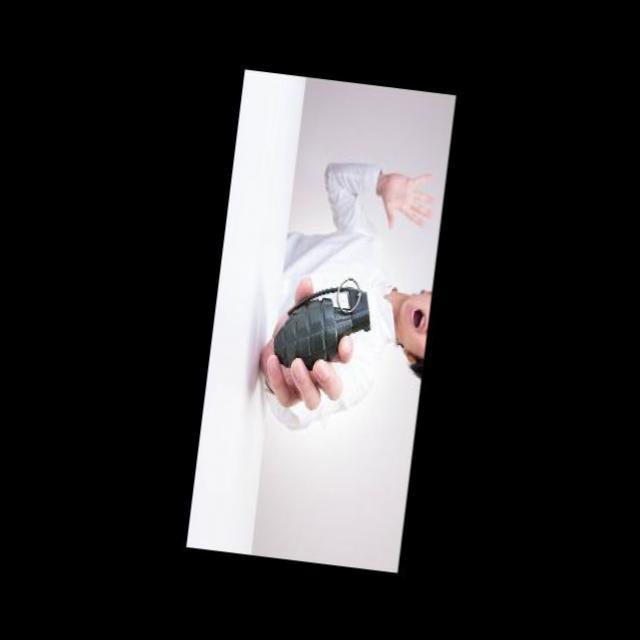grenade: (262, 264, 378, 406)
